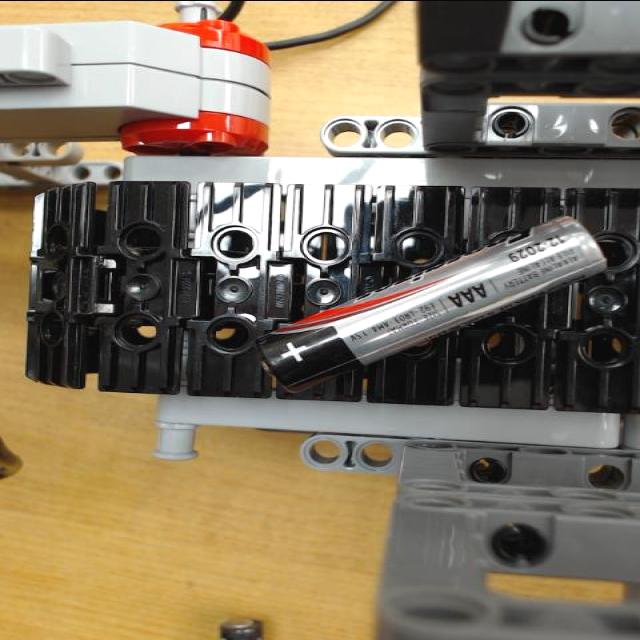AAA: (256, 214, 608, 387)
